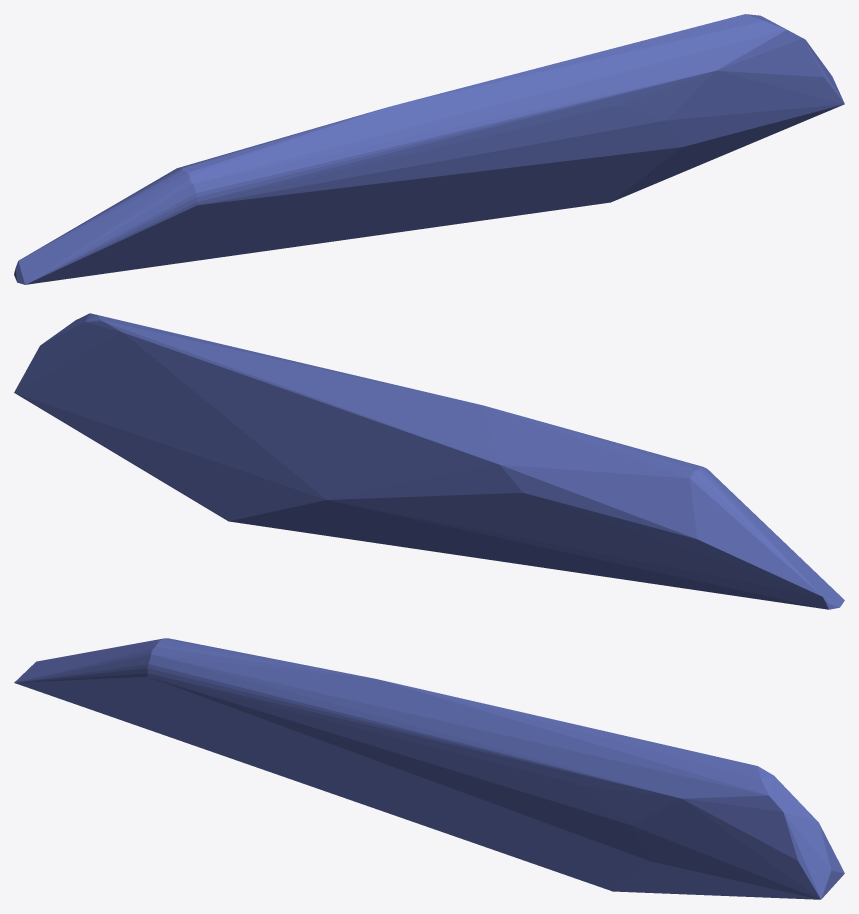
File: handTool_pliers_locking_a01.glb
3 renders of one model, top to bottom at view 1: azimuth 30°, elevation 25°; view 2: azimuth 150°, elevation 25°; view 3: azimuth 330°, elevation 25°, orthographic. The views are drawn at different scales.
Visible parts, largest first — view 1: geometry_0; view 2: geometry_0; view 3: geometry_0.
Part boxes in pixels (box(x1,y1,x2,y2)): geometry_0: box(14, 14, 844, 284); geometry_0: box(14, 313, 844, 609); geometry_0: box(14, 638, 844, 899).
Bounding box in the file's own units: 0.4791 × 0.0885 × 0.045.
